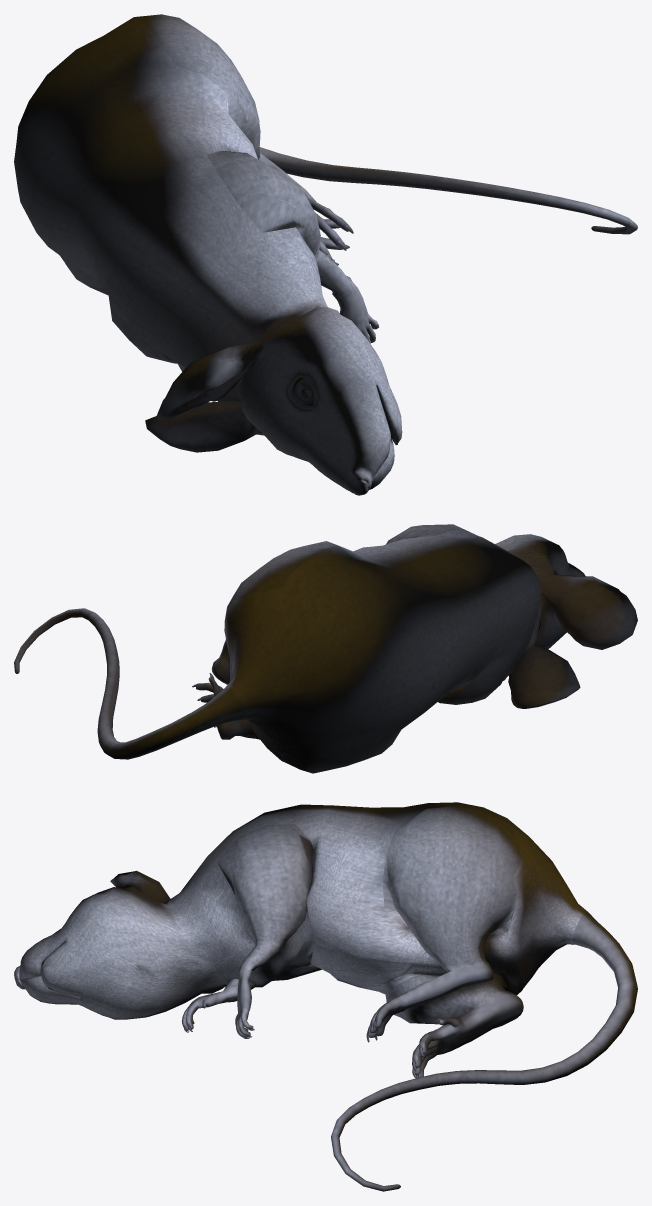
File: rata.FBX
3 views of the same model, one above another, from view 1: azimuth 30°, elevation 25°; view 2: azimuth 150°, elevation 25°; view 3: azimuth 270°, elevation 25° (orthographic). The views are drawn at different scales.
Visible parts, largest first — view 1: rata; view 2: rata; view 3: rata.
Part boxes in pixels (box(x1,y1,x2,y2)): rata: box(14, 14, 637, 495); rata: box(14, 524, 637, 773); rata: box(14, 802, 637, 1191).
Size of the model in its own units: 146 by 62.53 by 160.
